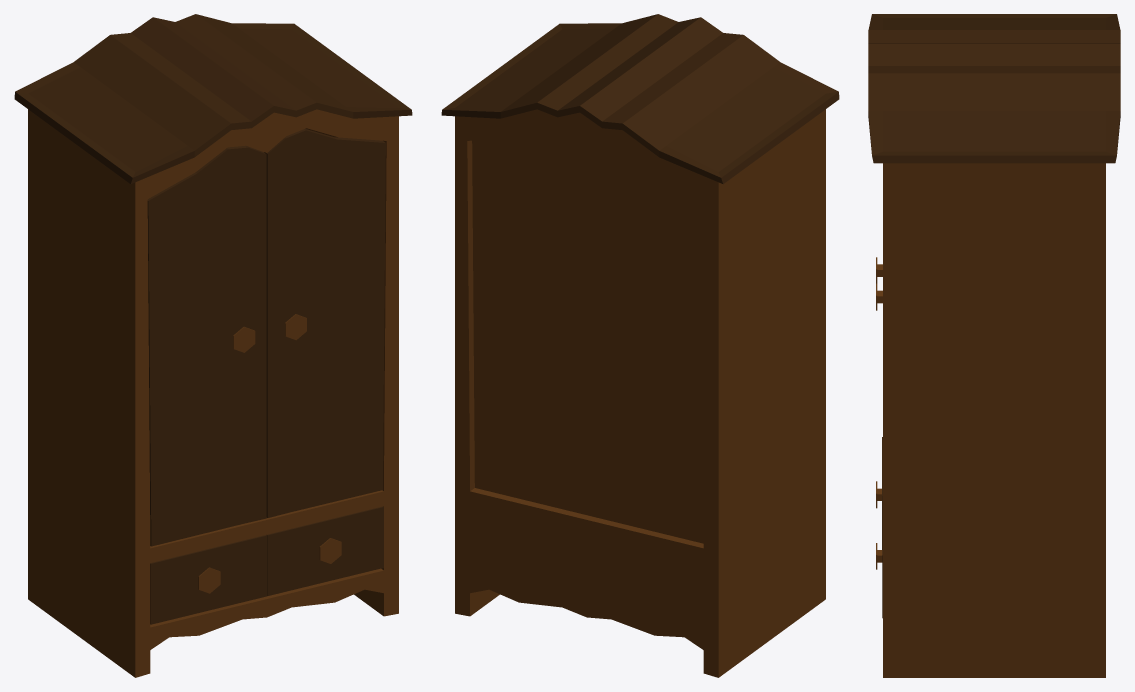
File: wardrobe.fbx
The picture shows the model from 3 angles, left to right: view 1: azimuth 30°, elevation 25°; view 2: azimuth 150°, elevation 25°; view 3: azimuth 270°, elevation 25°; orthographic projection. The views are drawn at different scales.
Visible parts, largest first — view 1: Plane, Plane.001, Plane.003, Plane.004, Plane.002; view 2: Plane; view 3: Plane.
Boxes of the visible parts, x1,y1,x2,y2 form: Plane: (14,14,412,677); Plane.001: (264,128,385,517); Plane.003: (147,145,266,546); Plane.004: (150,535,267,624); Plane.002: (267,506,383,595); Plane: (441,14,839,677); Plane: (868,14,1120,677).
Size of the model in its own units: 227 by 420 by 169.
